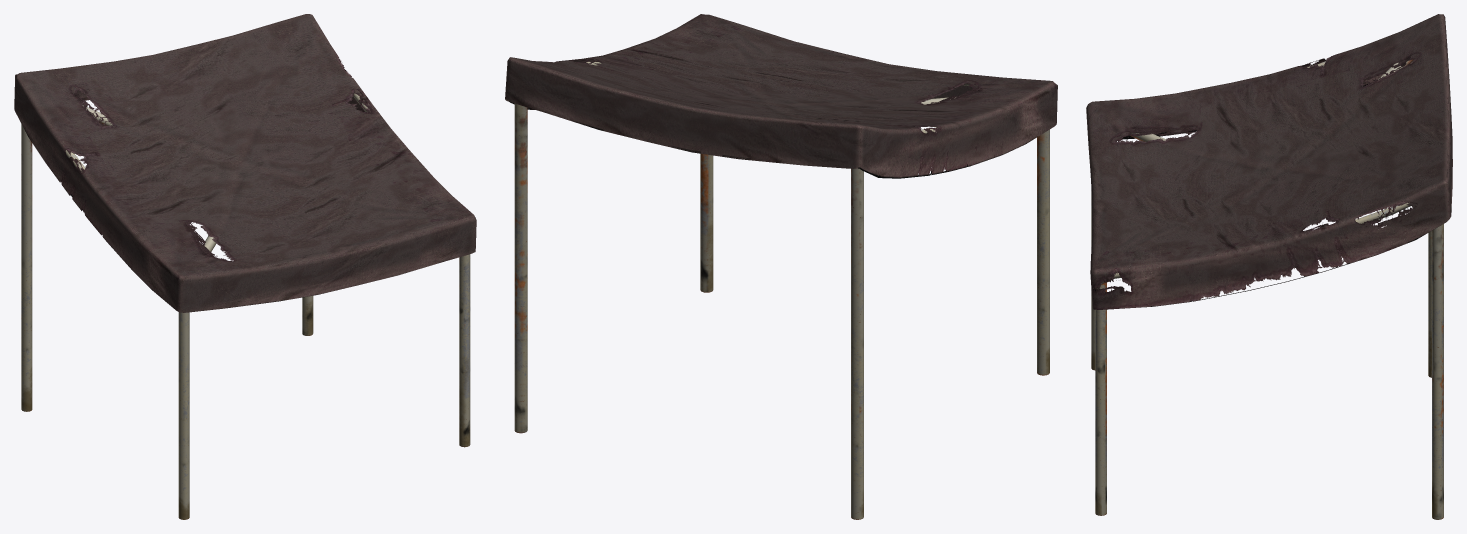
The model's file is Canopy11.fbx.
3 views of the same model, side by side, from view 1: azimuth 30°, elevation 25°; view 2: azimuth 150°, elevation 25°; view 3: azimuth 270°, elevation 25° (orthographic). The views are drawn at different scales.
Parts seen in each view (by area): view 1: canopy1_LOD0; view 2: canopy1_LOD0; view 3: canopy1_LOD0.
Boxes of the visible parts, x1,y1,x2,y2 form: canopy1_LOD0: [14, 14, 476, 519]; canopy1_LOD0: [505, 14, 1057, 519]; canopy1_LOD0: [1086, 14, 1452, 519].
Size of what is drawn, in the model's own units: 4.28 by 4.56 by 4.22.
